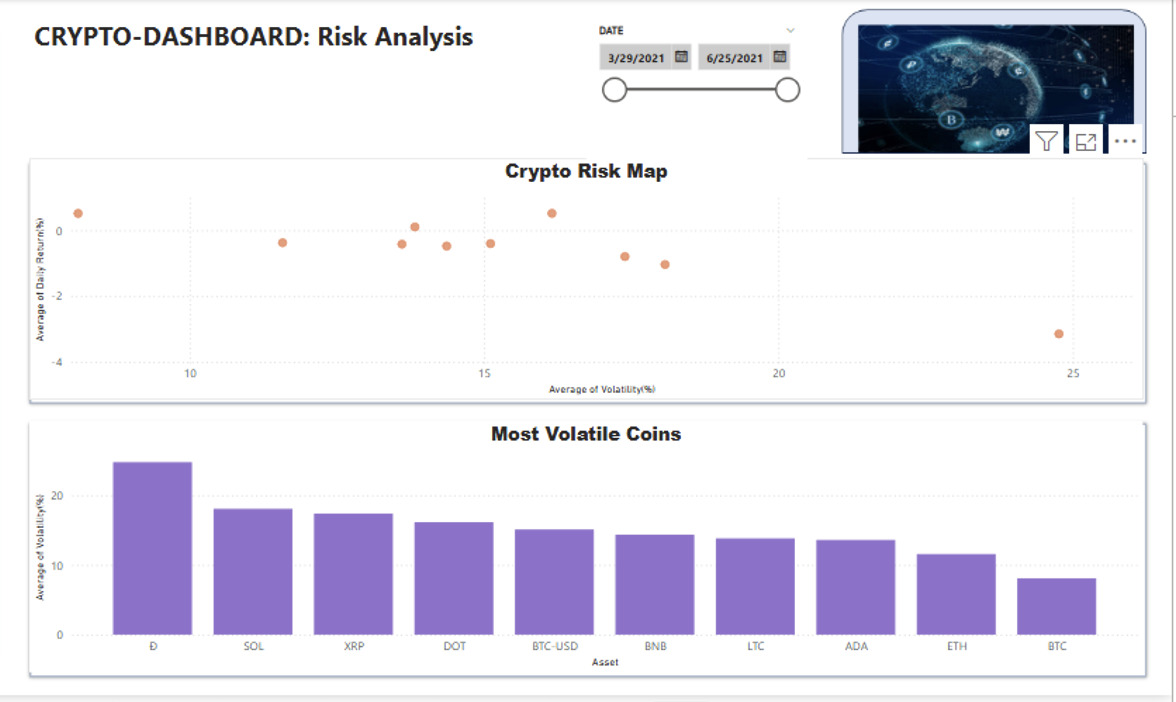

Layout of this report page (visuals, bound fields, positions):
{"tool":"powerbi","page":{"name":"Page 4","canvas":[1280,720],"ordinal":3},"visuals":[{"type":"scatterChart","title":"Crypto Risk Map","fields":{"X":["Avg(Sheet1.Volatility(%))"],"Category":["Sheet1.Asset"],"Y":["Avg(Sheet1.Daily Return(%))"]},"box":[98.7,164.5,1151.7,250.1],"z":0},{"type":"slicer","fields":{"Values":["DateTable.DATE"]},"box":[674.9,21.2,228.5,143.9],"z":1000},{"type":"textbox","box":[99,15,576,150],"z":2000},{"type":"columnChart","title":"Most Volatile Coins","fields":{"Category":["Sheet1.Asset"],"Y":["Avg(Sheet1.Volatility(%))"]},"box":[99.4,435.8,1150.9,260.2],"z":3000}]}

Visuals, with their boxes on the page's 1280x720 design canvas (x1, y1, x2, y2). These are canvas units, not pixel positions in the 1176x702 screenshot, which may show the page scaled, cropped or inside an application window:
"Crypto Risk Map" scatterChart: select_region(99, 164, 1250, 415)
slicer - DateTable.DATE: select_region(675, 21, 903, 165)
textbox: select_region(99, 15, 675, 165)
"Most Volatile Coins" columnChart: select_region(99, 436, 1250, 696)
